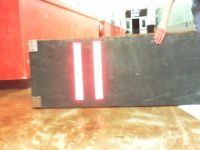switch: (72, 42, 85, 101), (93, 41, 104, 99)
